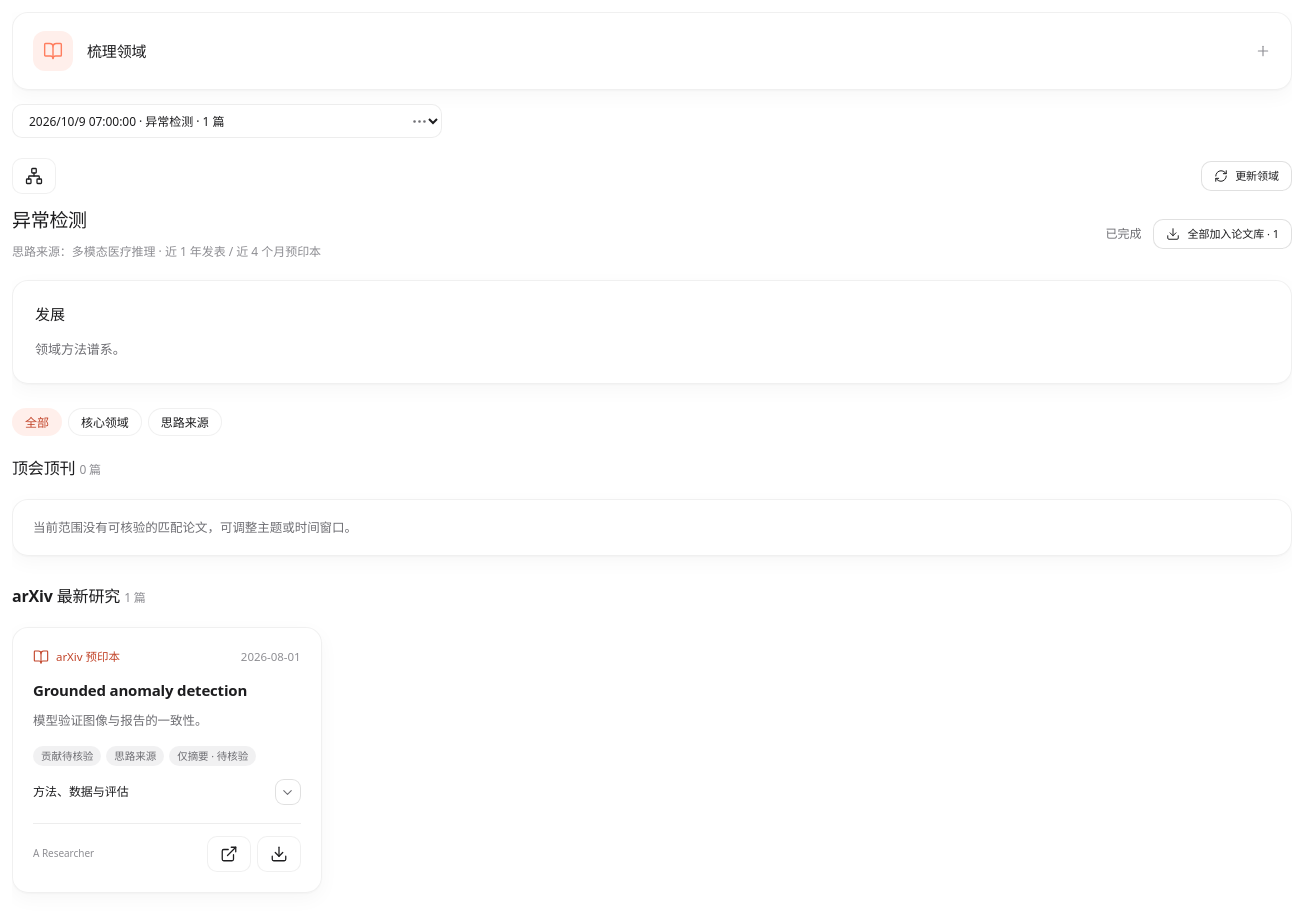
Test: research discovery interaction › imports every pending paper of a result in one action
The image size is (1304, 912).
Step 1. Click the button with class "research-import-all" → (1223, 234), box [1154,219,1292,249]
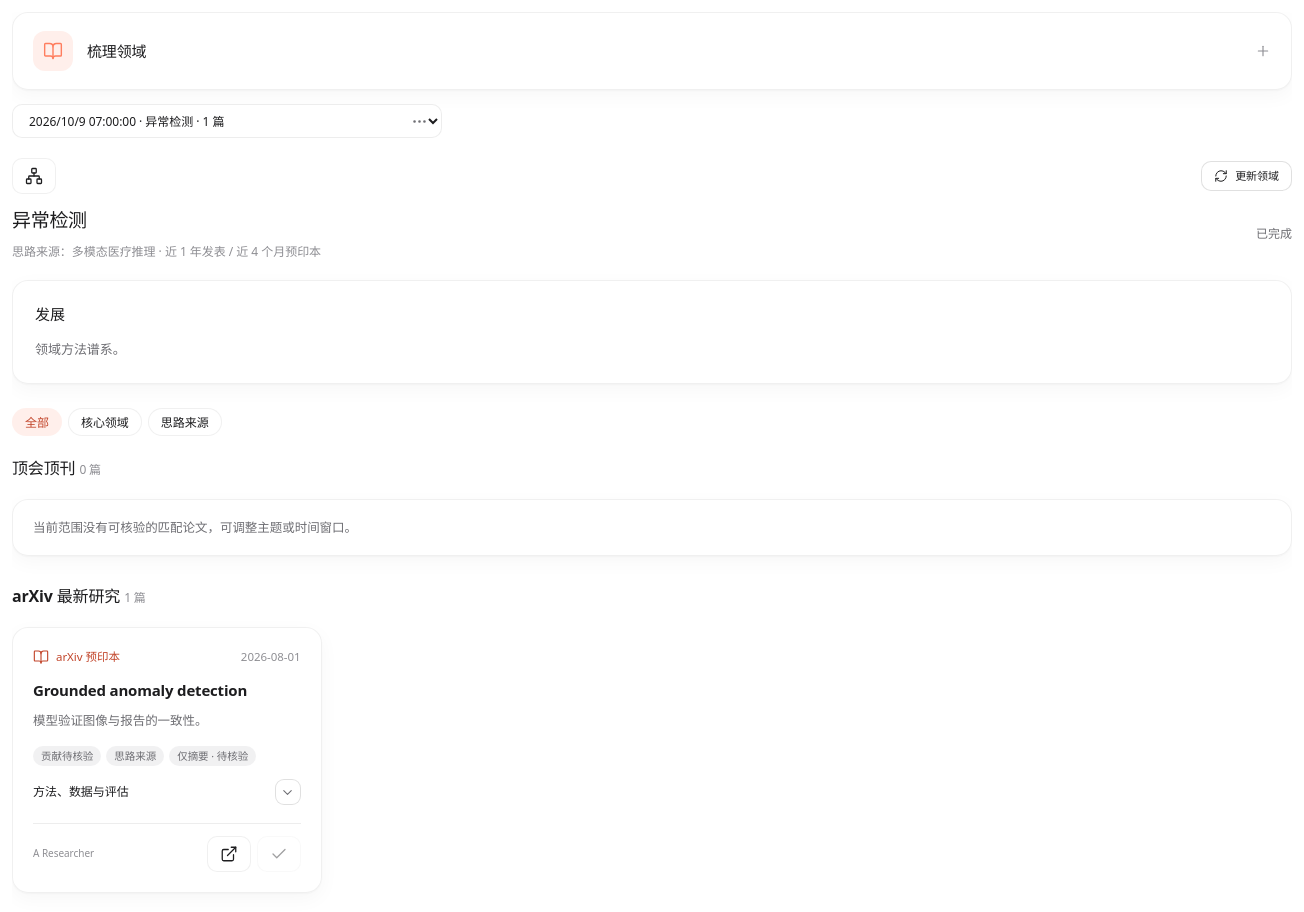
Check: the button with class "research-import-all" is gone
